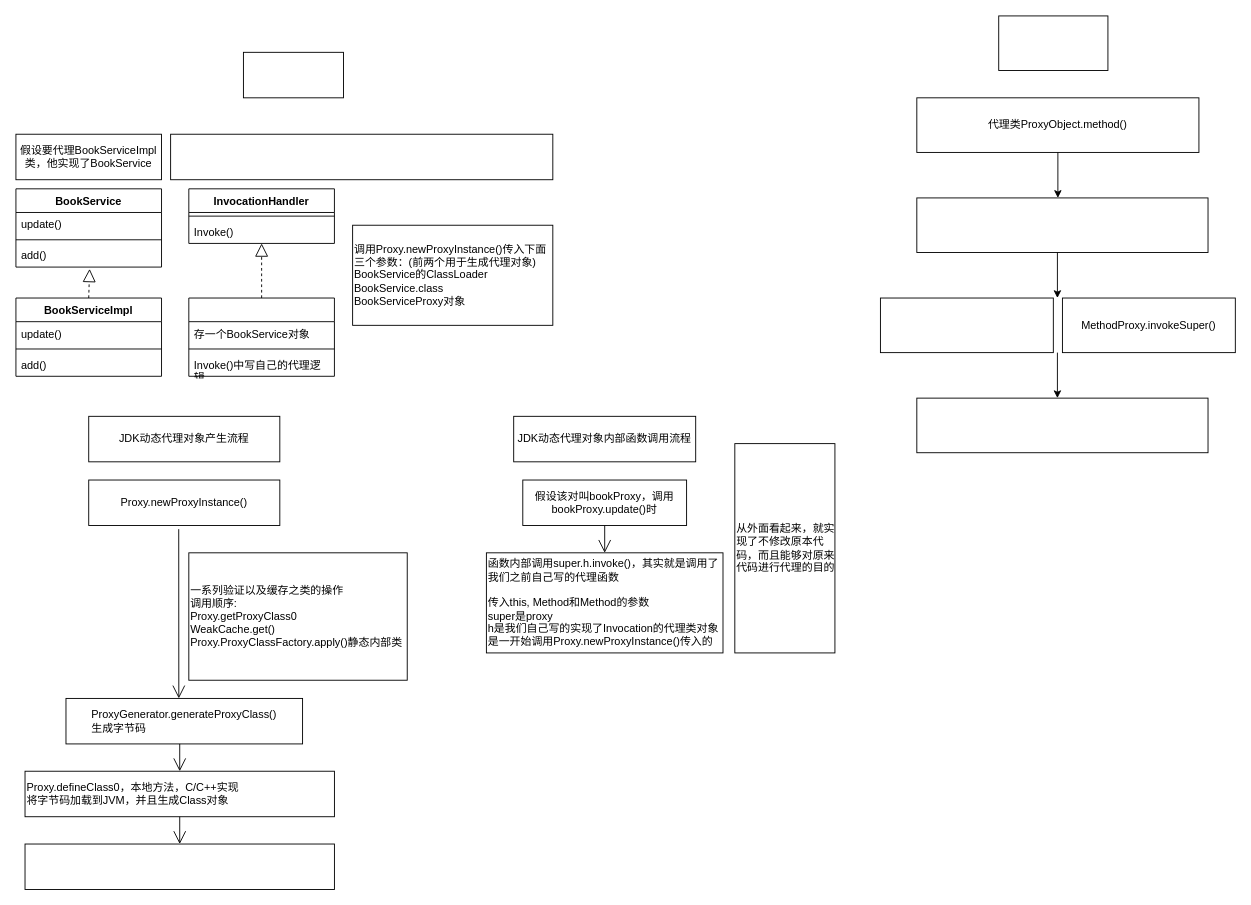
Some shapes in this 1251 by 905 pixel diagram are drawn without their labels. Here are the shapes that lost their labels. From the top down, the box of each, then its label:
(998, 15, 1108, 71): cglib代理调用过程
(243, 51, 344, 98): JDK动态代理的使用
(170, 133, 553, 180): 编写代理类的人要做的事情
(916, 197, 1208, 253): MethodIntercept.intercept()，传入参数和MethodProxy
(188, 297, 334, 376): BookServiceProxy
(880, 297, 1053, 353): MethodProxy.invoke()
(916, 397, 1208, 453): FastClass.invoke()，根据方法索引调用对应函数
(24, 843, 334, 890): Constructor.newInstance()，传入自己写的代理类 创建对象并返回一个继承于Proxy, 实现了BookService的类
